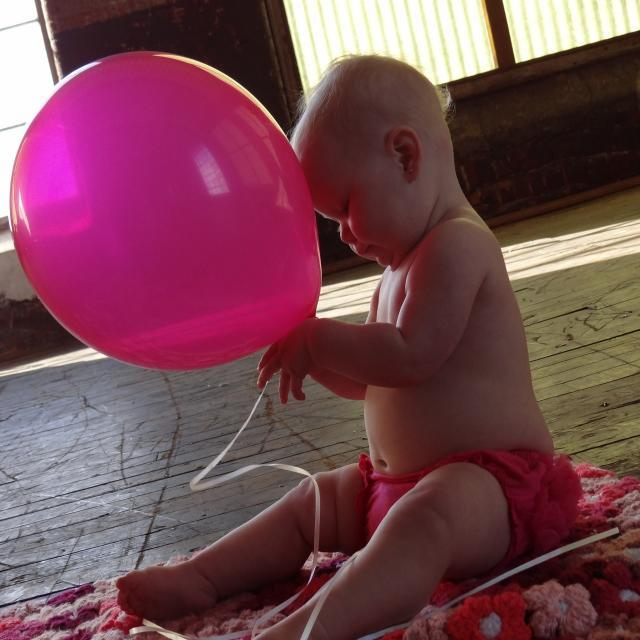red: (8, 48, 323, 372)
